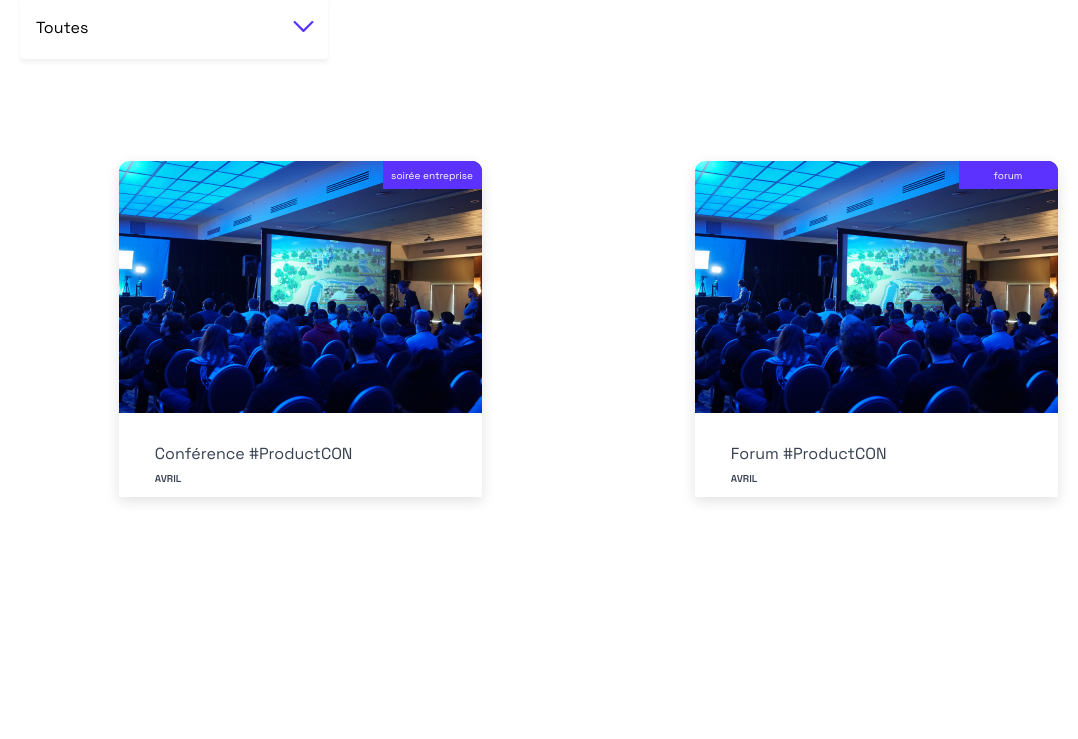
When Events is created › and we click on an event › the event detail is displayed
Click the text "Conférence #productCON": [254, 454] box [155,443,352,464]
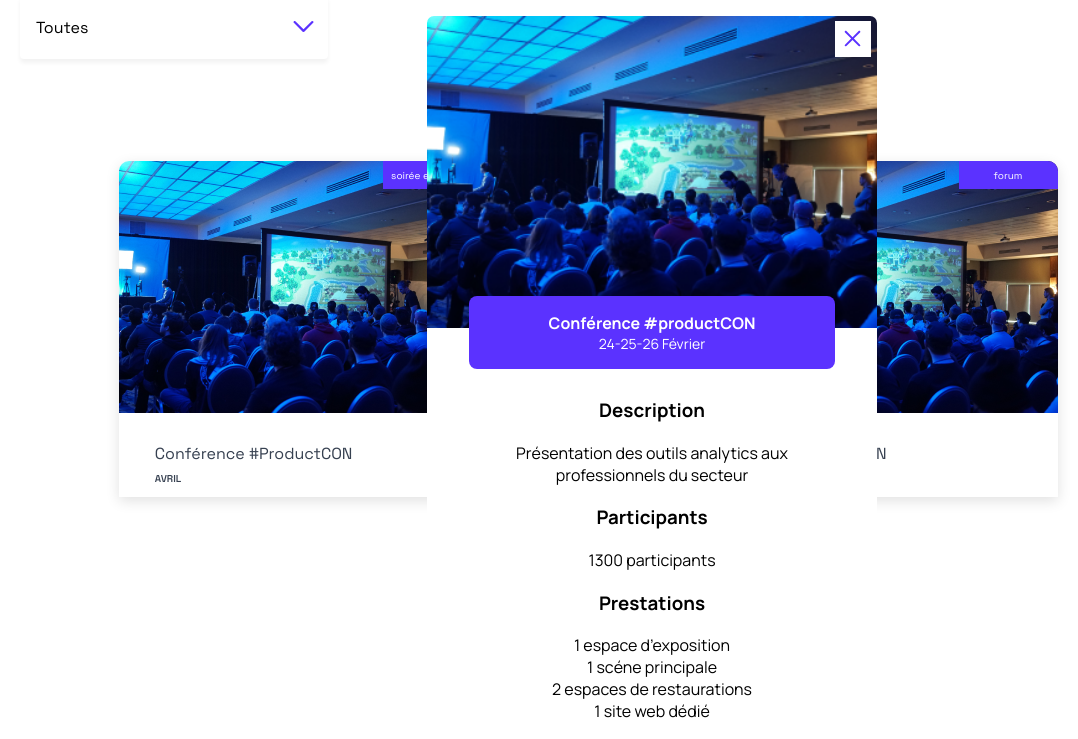
Now the text "24-25-26 Février" is shown, box [599,334,705,352]
Now the text "1 site web dédié" is shown, box [594,700,710,722]
